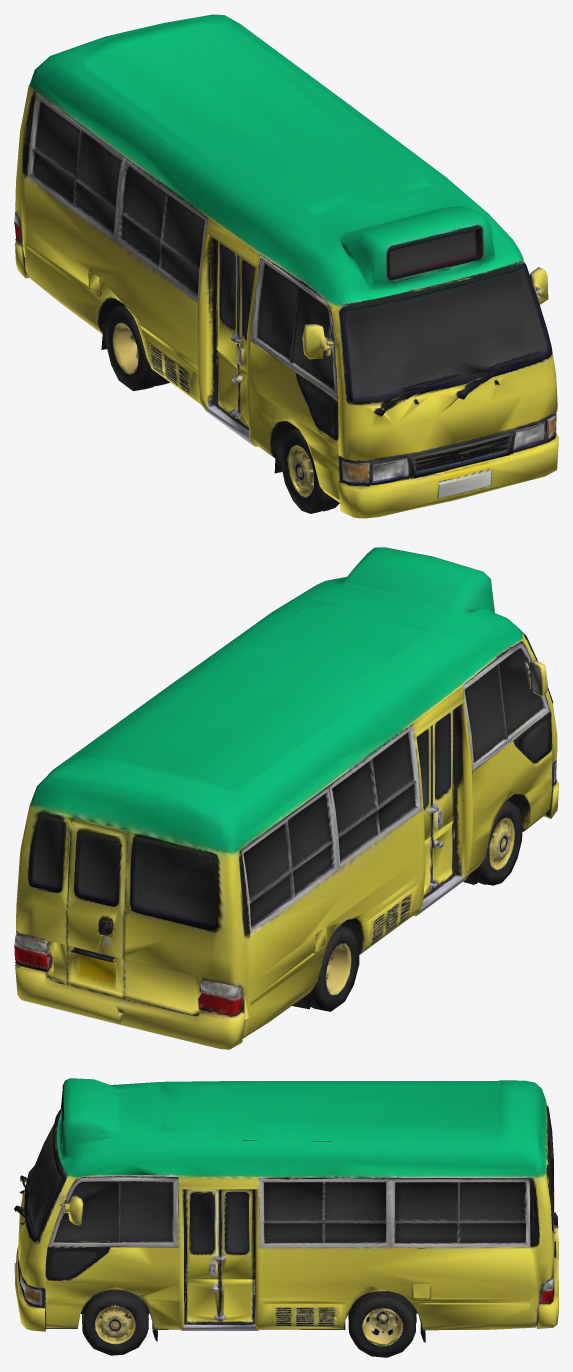
File: v05-minibus-8k.glb
3 views of the same model, one above another, from view 1: azimuth 30°, elevation 25°; view 2: azimuth 150°, elevation 25°; view 3: azimuth 270°, elevation 25° (orthographic). The views are drawn at different scales.
Parts seen in each view (by area): view 1: tripo_node_959a99cf-48de-4fc8-af26-7695b186c3dc; view 2: tripo_node_959a99cf-48de-4fc8-af26-7695b186c3dc; view 3: tripo_node_959a99cf-48de-4fc8-af26-7695b186c3dc.
Boxes of the visible parts, bbox=[...] form: tripo_node_959a99cf-48de-4fc8-af26-7695b186c3dc: bbox=[14, 14, 558, 518]; tripo_node_959a99cf-48de-4fc8-af26-7695b186c3dc: bbox=[14, 547, 558, 1049]; tripo_node_959a99cf-48de-4fc8-af26-7695b186c3dc: bbox=[14, 1078, 558, 1357].
Bounding box in the file's own units: 0.3983 × 0.4424 × 0.9815.
1 material, 1 textured.
